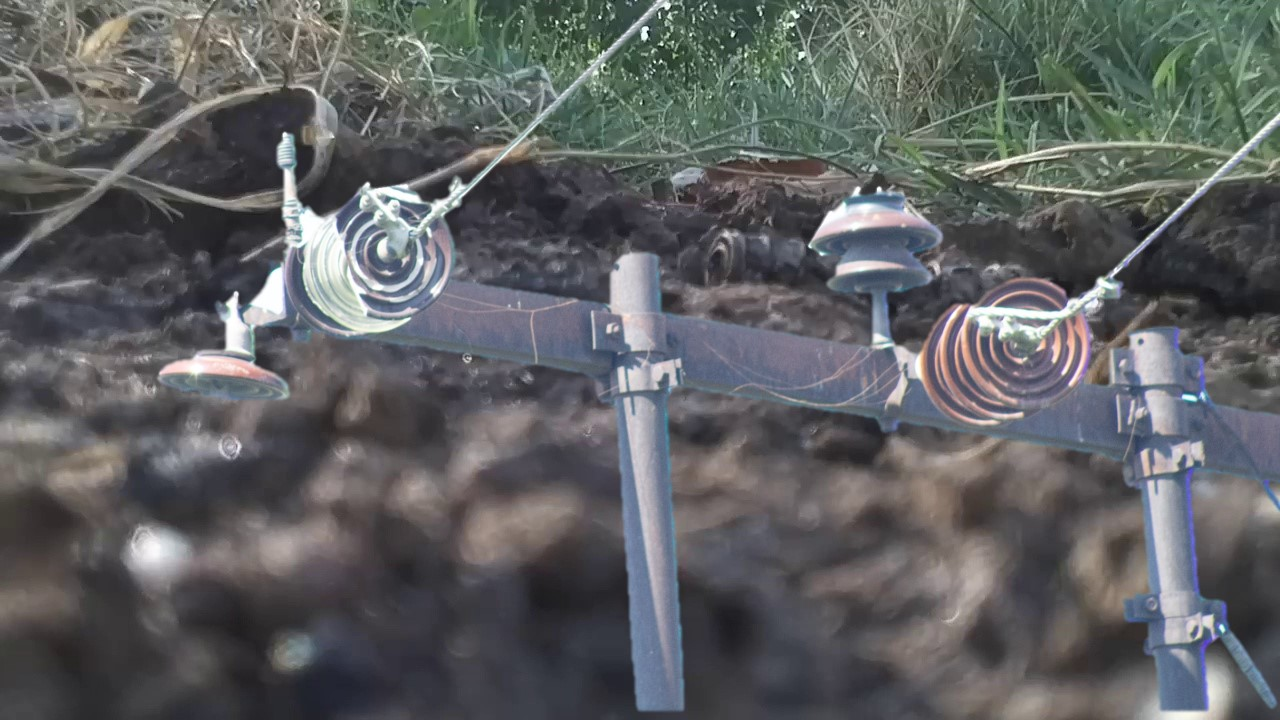defect_disc: (329, 184, 459, 324)
insulator_disc: (956, 276, 1091, 412), (154, 333, 295, 412)
